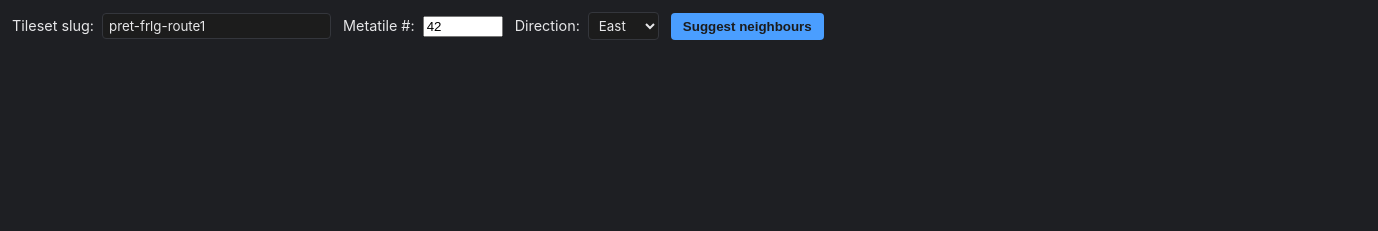
Test: TileNeighboursExplorer › fetches and renders ranked suggestions on submit
The width and height of the screenshot is (1378, 231).
Click the button "Suggest neighbours". click: {"x": 747, "y": 26}
box: [671,12,824,40]
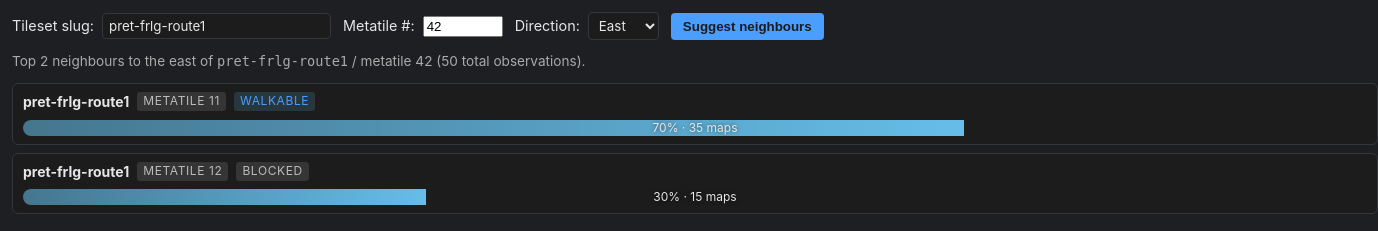
Now the text "Top 2 neighbours" is shown, box [12,53,586,69]
Now the text "70% · 35 maps" is shown, box [652,120,738,135]
Now the text "Walkable" is shown, box [234,92,315,111]
